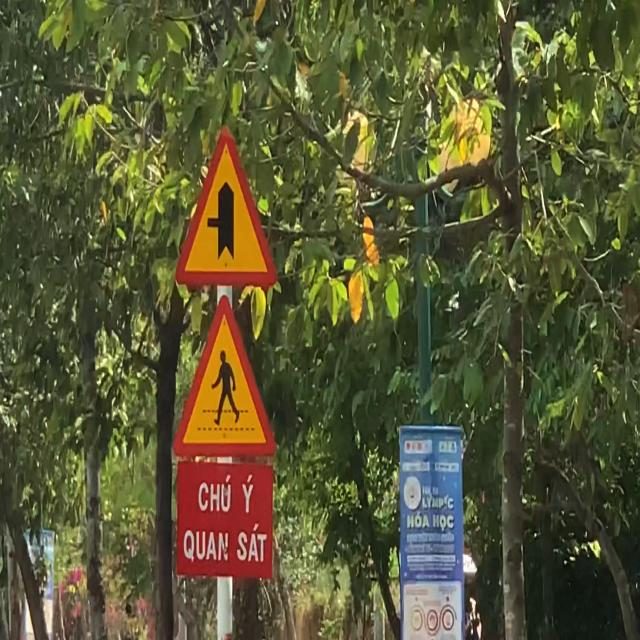Giao voi duong khong uu tien: (174, 125, 278, 289)
Nguoi di bo cat ngang: (171, 293, 277, 459)
